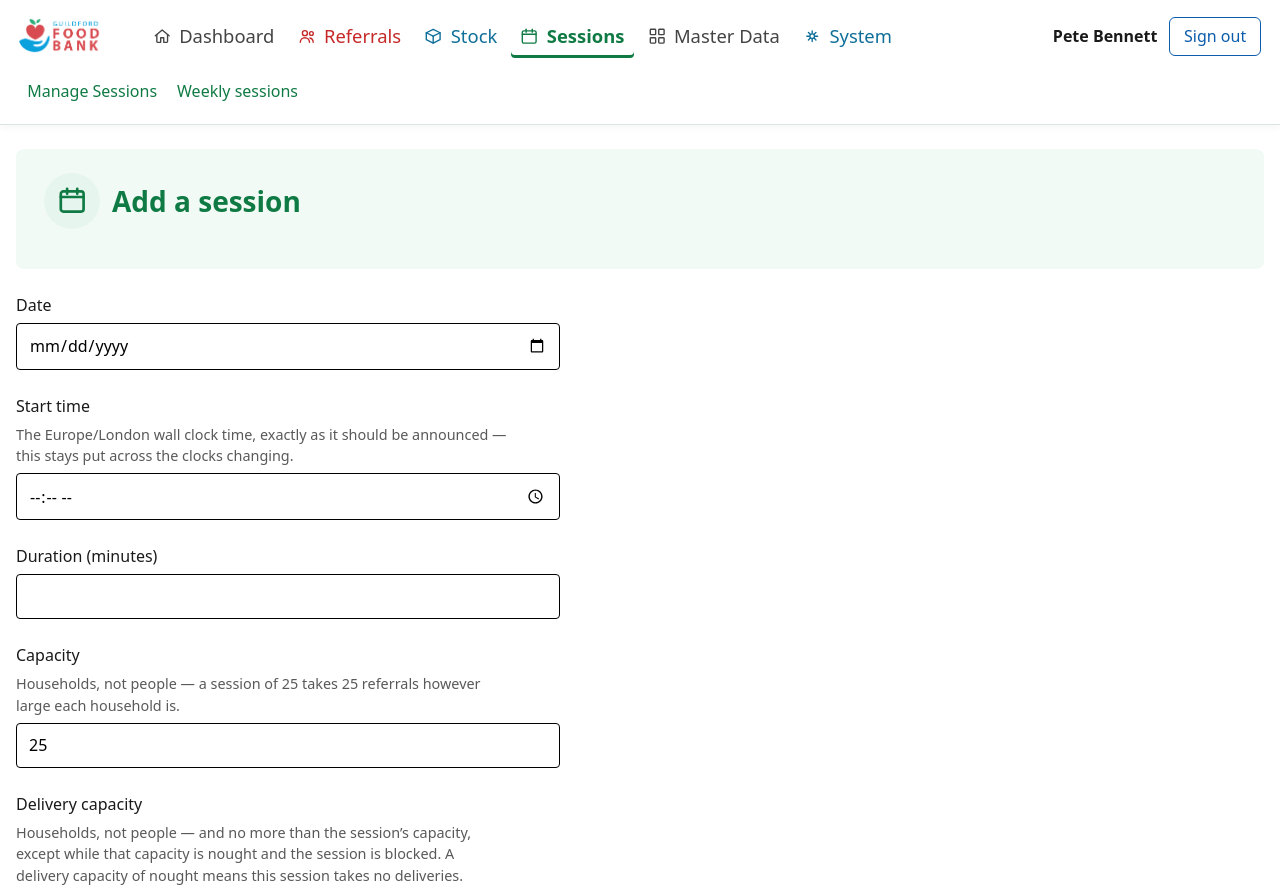
Test: adding an ad hoc session › hides the single location while creating it as St. Clare’s Church
The width and height of the screenshot is (1280, 893).
Type "2026-08-04" into the date field labelled "Date". click: (288, 346)
box: [16,323,560,370]
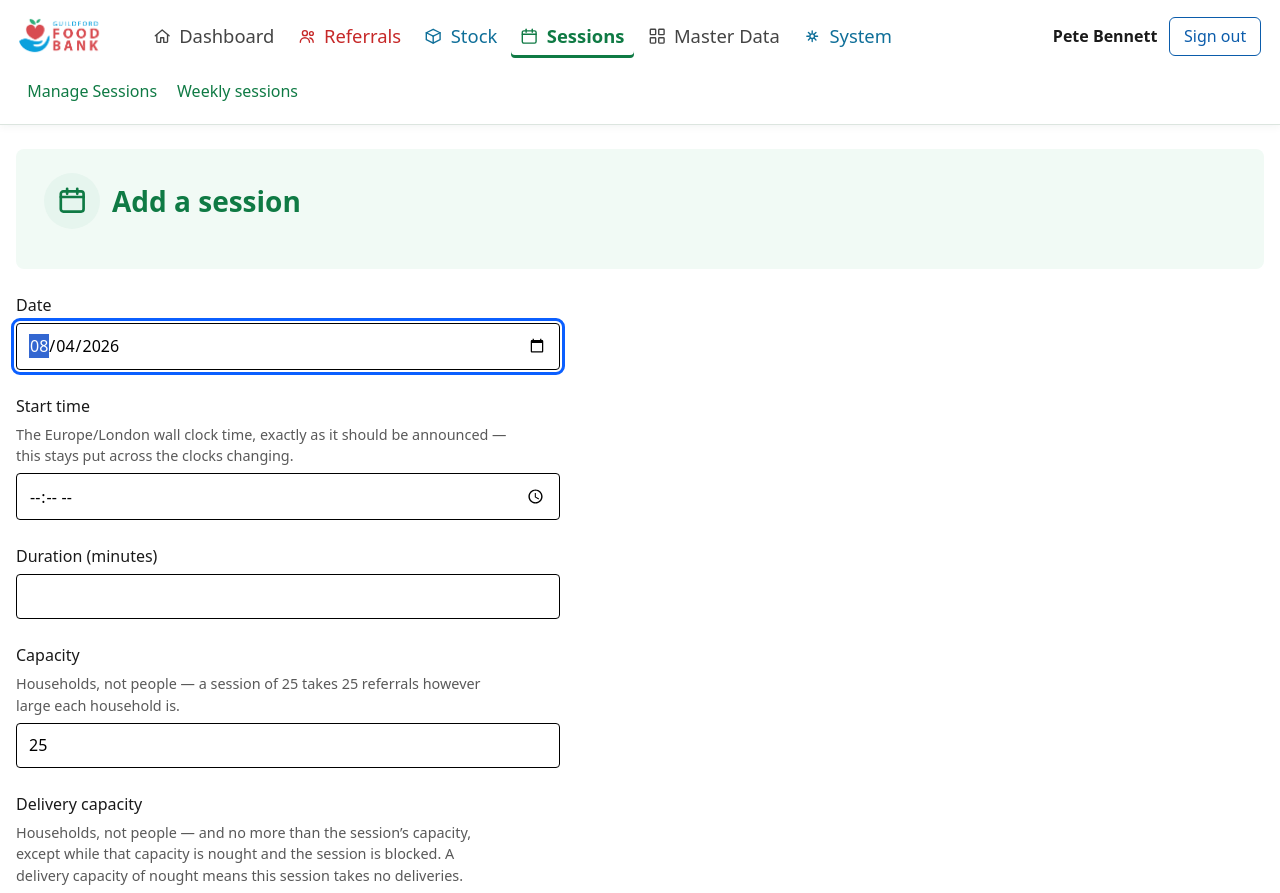
Type "10:00" into the time field labelled "Start time". click: (288, 497)
box: [16,473,560,520]
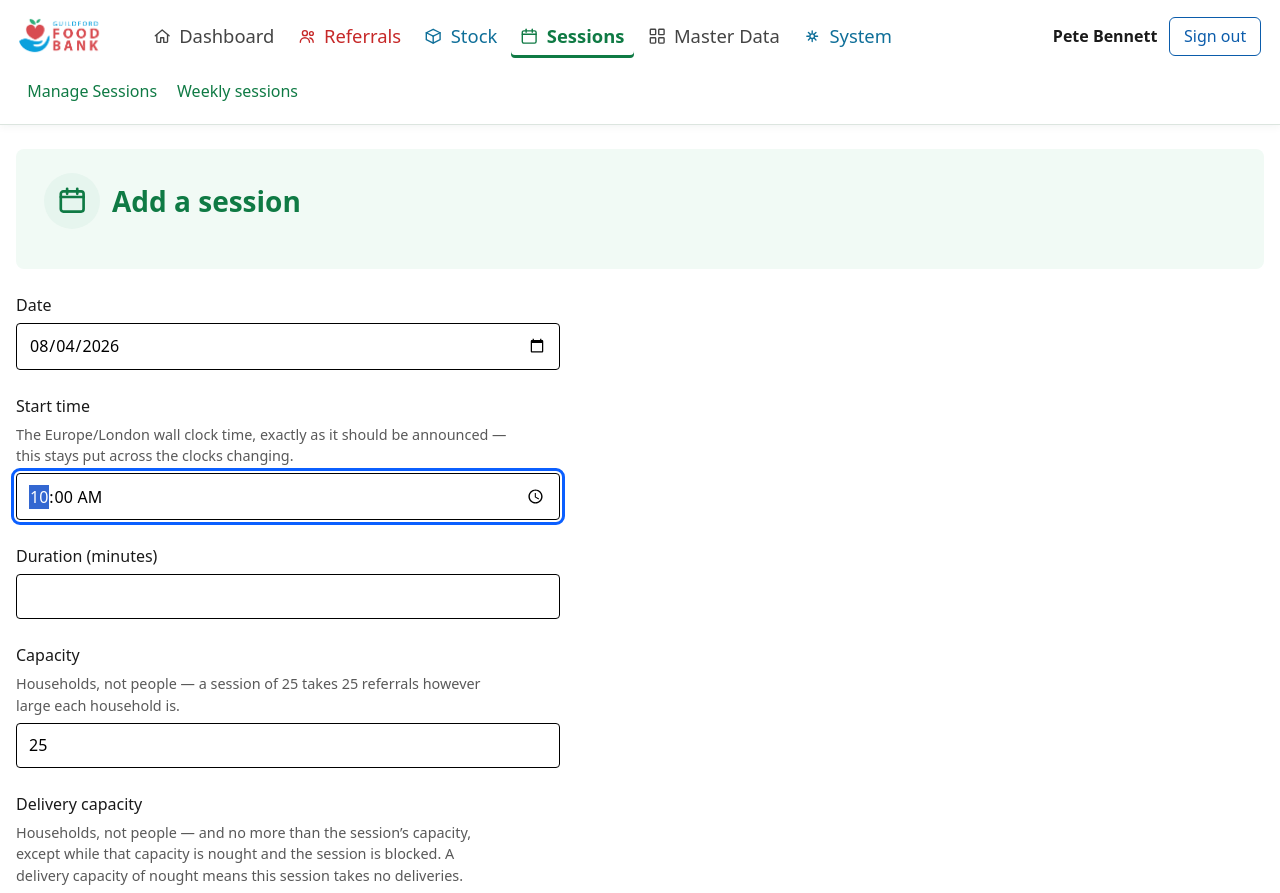
Type "90" into the field labelled "Duration (minutes)". click: (288, 597)
box: [16,574,560,619]
(page scrolled)
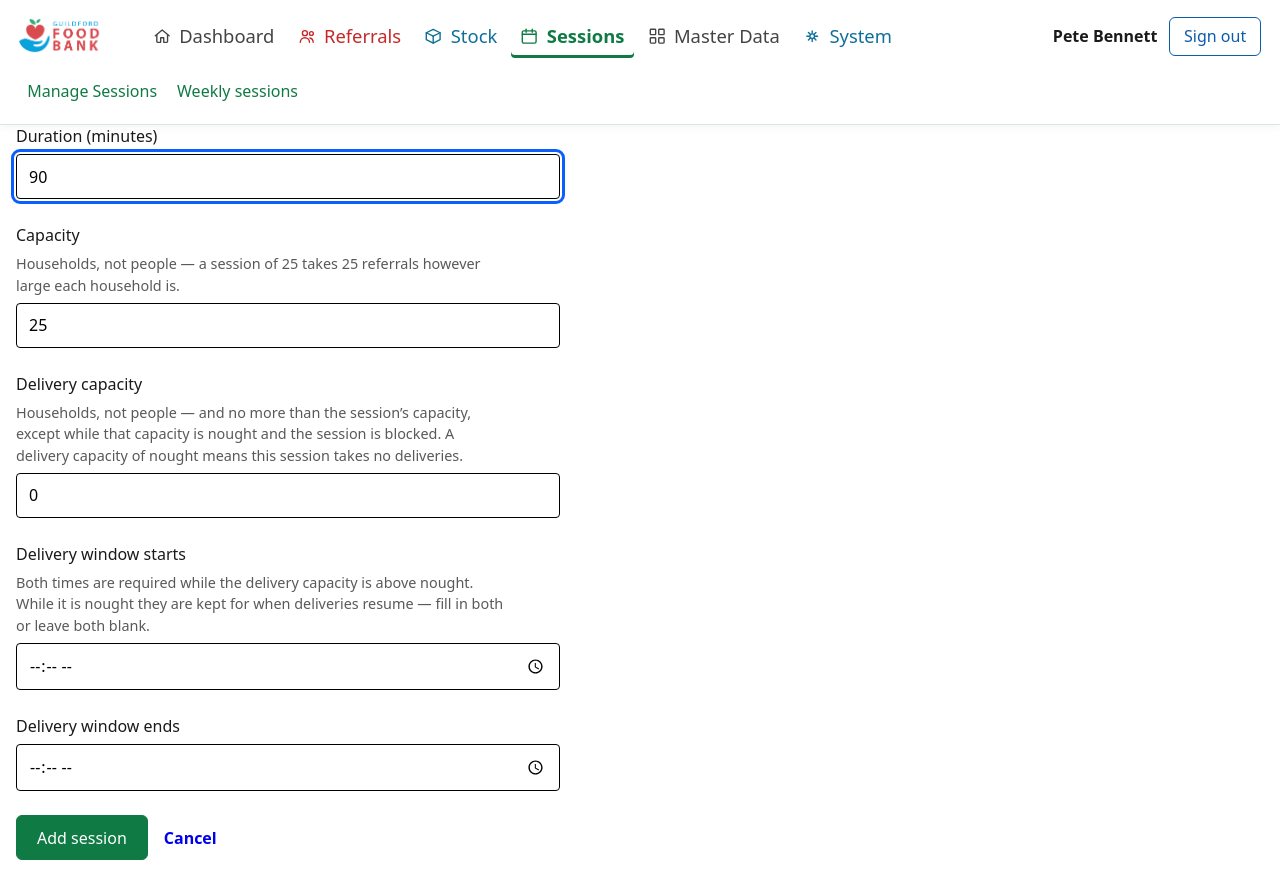
Click the button "Add session". click: (82, 838)
box: [16,815,148,860]
(page scrolled)
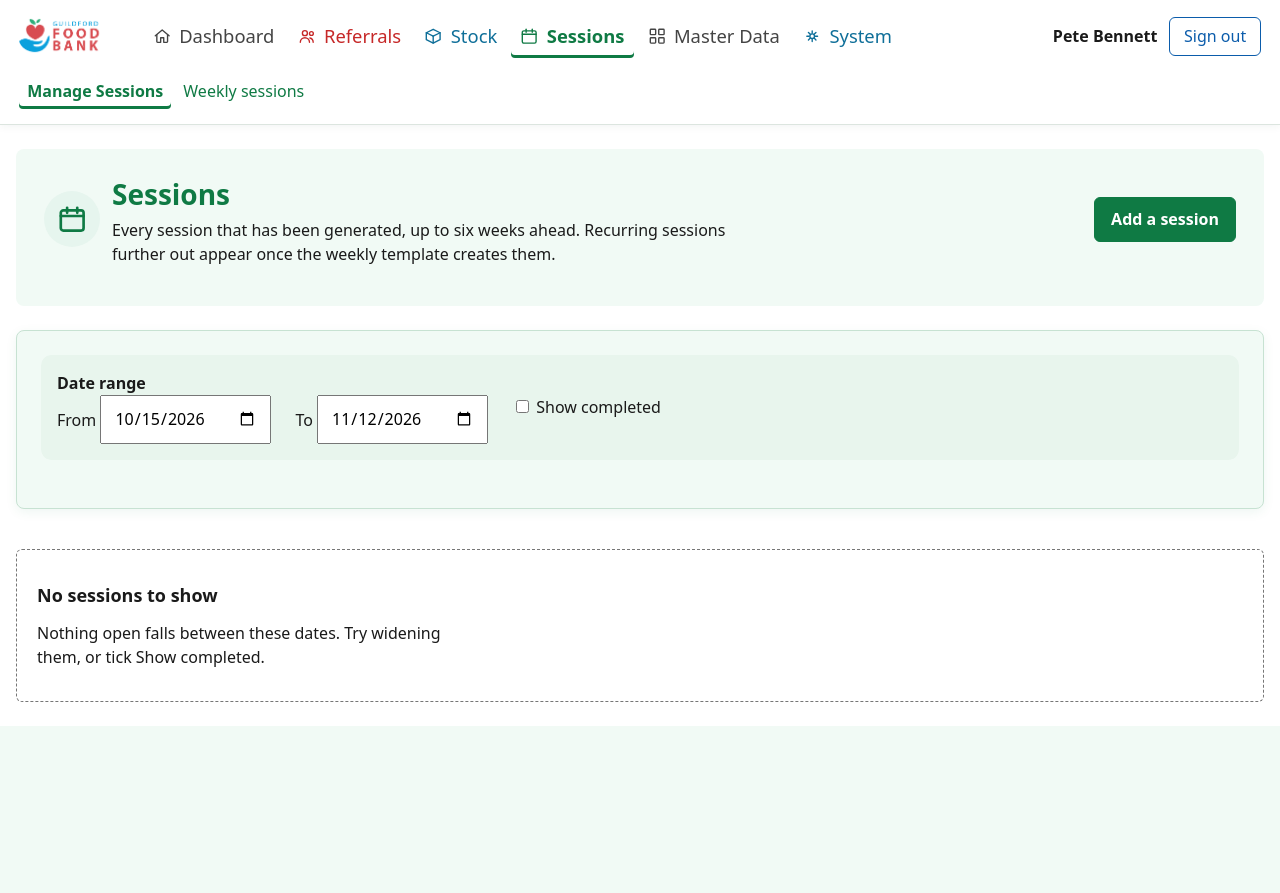
Expected: the heading "Sessions" is shown, [112,175,230,213]
